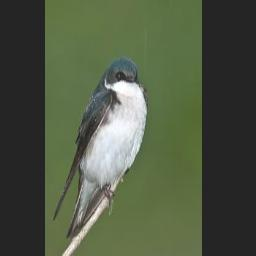Swallow: (52, 51, 150, 240)
